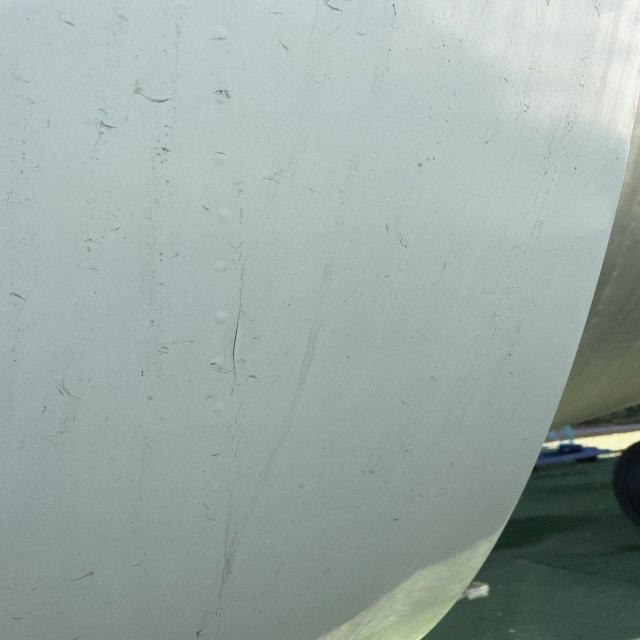crack: (216, 272, 266, 424)
